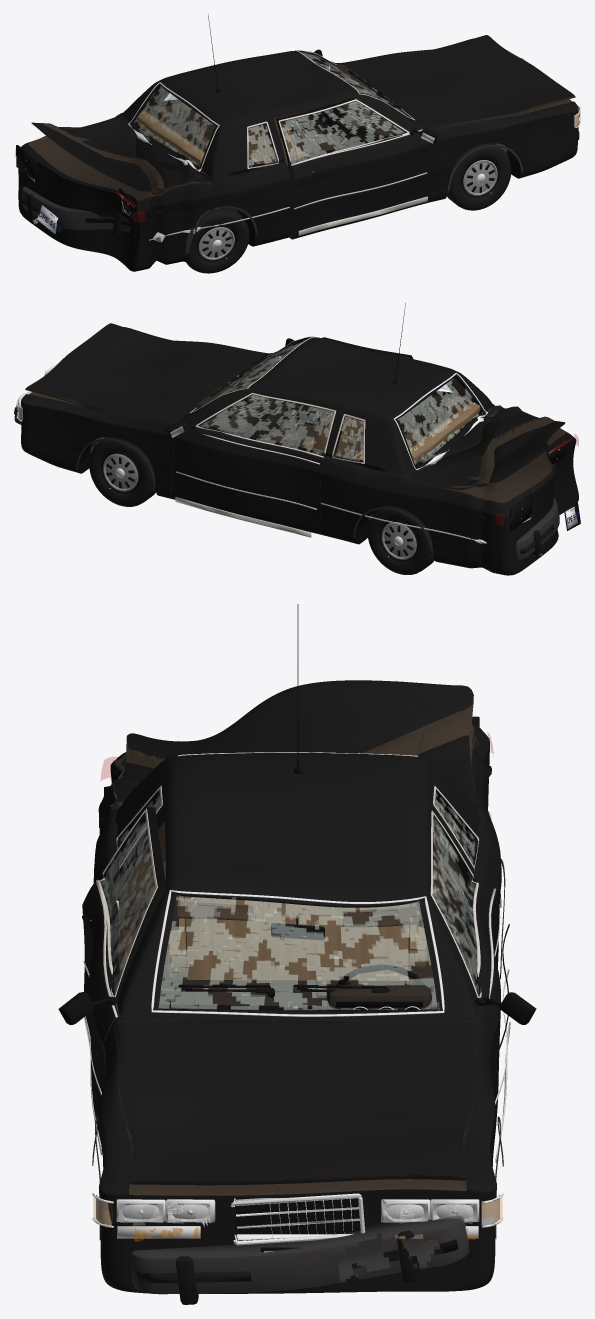
Rendered from coupe84_rear_corner_R_d1_lod1.glb.
3 views of the same model, one above another, from view 1: azimuth 30°, elevation 25°; view 2: azimuth 150°, elevation 25°; view 3: azimuth 270°, elevation 25° (orthographic). The views are drawn at different scales.
Parts seen in each view (by area): view 1: Body, Hood, Door_FR, Trunk, Interior, Glass, Wheel_FR_mesh, Glass_FR, Wheel_RR_mesh, Trim_FR, Trim, Bumper_R (+2 smaller); view 2: Body, Hood, Door_FL, Trunk, Interior, Glass, Wheel_FL_mesh, Wheel_RL_mesh, Glass_FL, Trim_FL, Trim, Ends (+2 smaller); view 3: Body, Hood, Interior, Glass, Trunk, Bumper_F, Ends, Door_FR, Door_FL, Glass_FR, Trim, Trim_FR (+4 smaller).
Part boxes in pixels (left/top/right/bottom): Body: left=18, top=38, right=578, bottom=271; Hood: left=338, top=35, right=575, bottom=131; Door_FR: left=276, top=97, right=431, bottom=239; Trunk: left=31, top=116, right=209, bottom=194; Interior: left=137, top=64, right=402, bottom=166; Glass: left=128, top=50, right=415, bottom=171; Wheel_FR_mesh: left=447, top=143, right=511, bottom=210; Glass_FR: left=278, top=99, right=405, bottom=166; Wheel_RR_mesh: left=186, top=208, right=249, bottom=273; Trim_FR: left=278, top=99, right=437, bottom=235; Trim: left=148, top=14, right=523, bottom=253; Bumper_R: left=21, top=186, right=131, bottom=235; Body: left=21, top=327, right=578, bottom=575; Hood: left=25, top=323, right=268, bottom=424; Door_FL: left=171, top=392, right=336, bottom=534; Trunk: left=405, top=406, right=565, bottom=490; Interior: left=196, top=361, right=480, bottom=464; Glass: left=189, top=336, right=487, bottom=469; Wheel_FL_mesh: left=89, top=437, right=155, bottom=506; Wheel_RL_mesh: left=367, top=505, right=434, bottom=574; Glass_FL: left=199, top=392, right=336, bottom=457; Trim_FL: left=166, top=393, right=336, bottom=537; Trim: left=76, top=303, right=486, bottom=557; Ends: left=16, top=363, right=580, bottom=530; Body: left=94, top=723, right=500, bottom=1293; Hood: left=113, top=1020, right=482, bottom=1185; Interior: left=159, top=895, right=436, bottom=1009; Glass: left=119, top=752, right=475, bottom=1016; Trunk: left=112, top=680, right=480, bottom=806; Bumper_F: left=130, top=1215, right=469, bottom=1304; Ends: left=92, top=716, right=503, bottom=1284; Door_FR: left=82, top=807, right=166, bottom=1153; Door_FL: left=429, top=809, right=500, bottom=1149; Glass_FR: left=98, top=821, right=159, bottom=991; Trim: left=92, top=604, right=505, bottom=1240; Trim_FR: left=58, top=808, right=157, bottom=1154.
Bounding box in the file's own units: 5.18 × 2.15 × 2.13.
Materials: 34 (5 with a texture image).
